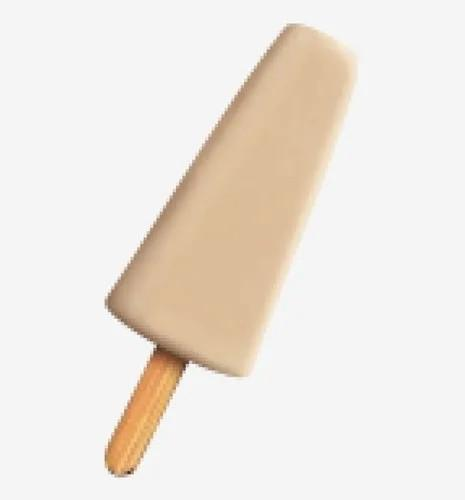Kulfi: (104, 21, 361, 377)
